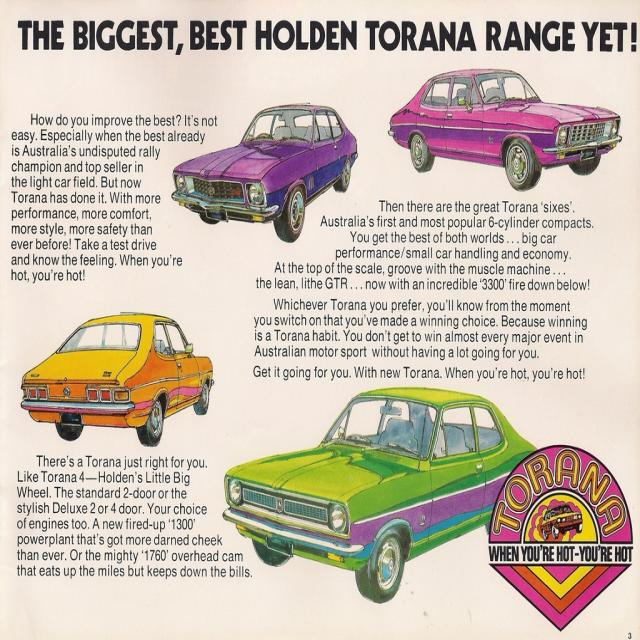other: (226, 383, 540, 605), (388, 69, 624, 196), (171, 104, 361, 240), (22, 314, 214, 447), (536, 500, 588, 544)
